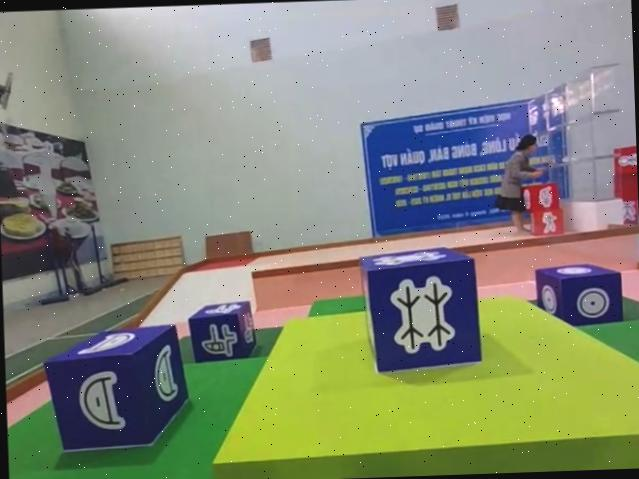R2 Real Blue: (42, 325, 187, 453), (358, 245, 481, 373), (533, 262, 622, 328), (186, 301, 256, 363)
